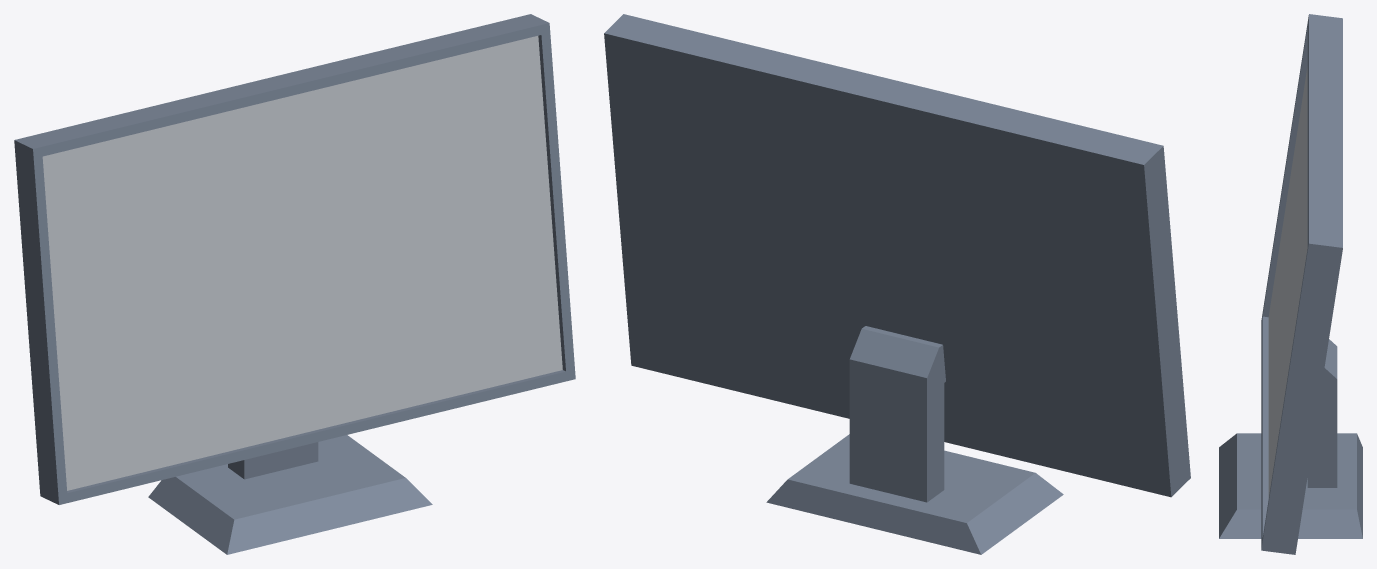
File: computer-screen.glb
3 renders of one model, left to right at view 1: azimuth 30°, elevation 25°; view 2: azimuth 150°, elevation 25°; view 3: azimuth 270°, elevation 25°, orthographic. The views are drawn at different scales.
Visible parts, largest first — view 1: computerScreen(Clone); view 2: computerScreen(Clone); view 3: computerScreen(Clone).
Part boxes in pixels (left/top/right/bottom): computerScreen(Clone): left=14, top=14, right=575, bottom=554; computerScreen(Clone): left=604, top=14, right=1190, bottom=554; computerScreen(Clone): left=1219, top=14, right=1362, bottom=554.
Bounding box in the file's own units: 0.9 × 0.6744 × 0.2383.
